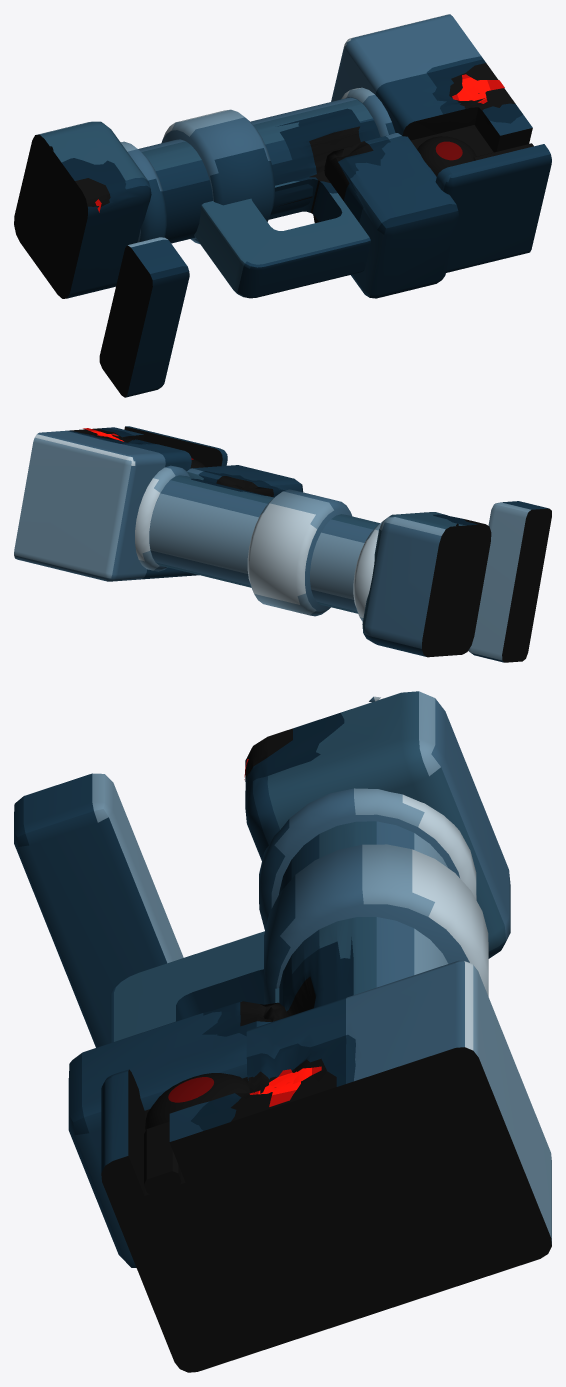
File: deli_cannon_dmg_barrel.glb
The picture shows the model from 3 angles, top to bottom: view 1: azimuth 30°, elevation 25°; view 2: azimuth 150°, elevation 25°; view 3: azimuth 270°, elevation 25°; orthographic projection. The views are drawn at different scales.
Visible parts, largest first — view 1: housing.001, hull.001, side_block.001, loop.001, barrel.001, ledge.001, collar1.001, collar0.001, lens.001, collar2.001, cracks.001; view 2: housing.001, hull.001, barrel.001, ledge.001, collar1.001, side_block.001, collar2.001, collar0.001; view 3: housing.001, hull.001, ledge.001, collar1.001, side_block.001, barrel.001, loop.001, collar0.001, lens.001, glow_strip.001, cracks.001.
Boxes of the visible parts, left/top/right/bottom form: housing.001: left=331, top=14, right=551, bottom=272; hull.001: left=14, top=121, right=151, bottom=298; side_block.001: left=313, top=133, right=459, bottom=298; loop.001: left=194, top=171, right=370, bottom=298; barrel.001: left=138, top=97, right=380, bottom=243; ledge.001: left=99, top=237, right=189, bottom=397; collar1.001: left=161, top=109, right=274, bottom=243; collar0.001: left=120, top=141, right=166, bottom=242; lens.001: left=417, top=136, right=476, bottom=176; collar2.001: left=341, top=87, right=395, bottom=136; cracks.001: left=95, top=74, right=504, bottom=212; housing.001: left=14, top=426, right=227, bottom=581; hull.001: left=362, top=512, right=491, bottom=657; barrel.001: left=149, top=475, right=379, bottom=613; ledge.001: left=468, top=501, right=551, bottom=662; collar1.001: left=247, top=489, right=351, bottom=616; side_block.001: left=187, top=465, right=303, bottom=497; collar2.001: left=135, top=465, right=189, bottom=571; collar0.001: left=353, top=522, right=382, bottom=621; housing.001: left=101, top=960, right=551, bottom=1372; hull.001: left=245, top=691, right=510, bottom=958; ledge.001: left=14, top=773, right=183, bottom=1047; collar1.001: left=264, top=844, right=488, bottom=1004; side_block.001: left=68, top=1001, right=288, bottom=1267; barrel.001: left=279, top=821, right=448, bottom=1016; loop.001: left=110, top=931, right=279, bottom=1042; collar0.001: left=259, top=788, right=476, bottom=930; lens.001: left=145, top=1073, right=249, bottom=1130; glow_strip.001: left=144, top=1121, right=181, bottom=1194; cracks.001: left=244, top=759, right=321, bottom=1106.
Bounding box in the file's own units: 24 × 11.3 × 14.76.
